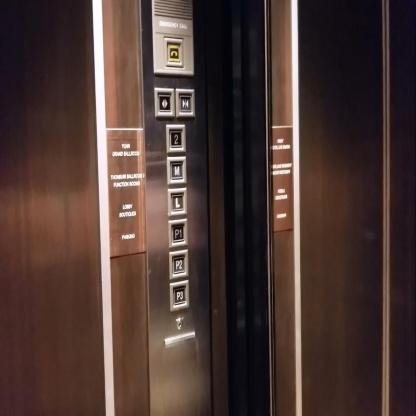2: (165, 123, 186, 154)
L: (167, 186, 187, 217)
M: (166, 156, 187, 185)
P1: (167, 218, 188, 246)
P2: (168, 247, 188, 279)
P3: (168, 280, 190, 310)
call: (163, 36, 185, 70)
close: (174, 86, 196, 120)
keyhole: (174, 316, 184, 330)
open: (153, 87, 175, 118)
